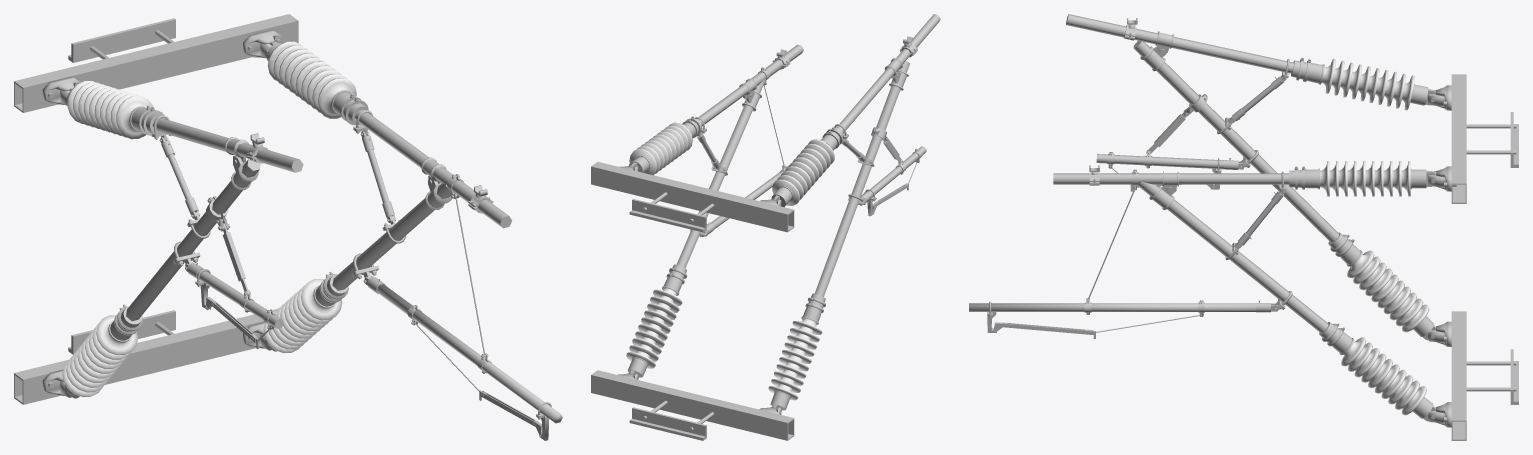
File: single_short_transition_2.obj
3 views of the same model, side by side, from view 1: azimuth 30°, elevation 25°; view 2: azimuth 150°, elevation 25°; view 3: azimuth 270°, elevation 25° (orthographic). The views are drawn at different scales.
Visible parts, largest first — view 1: 立方体.801, 立方体.806, 贝塞尔曲线.230, 贝塞尔曲线.226, 贝塞尔曲线.228, 立方体.803, 贝塞尔曲线.227, 贝塞尔曲线.229, 贝塞尔曲线.231, 立方体.804, 柱体.1858, 柱体.1802 (+5 smaller); view 2: 立方体.801, 立方体.806, 贝塞尔曲线.230, 贝塞尔曲线.227, 立方体.803, 立方体.804, 贝塞尔曲线.229, 贝塞尔曲线.228, 贝塞尔曲线.231, 贝塞尔曲线.226, 柱体.1865, 柱体.1795; view 3: 贝塞尔曲线.230, 贝塞尔曲线.227, 贝塞尔曲线.226, 贝塞尔曲线.229, 贝塞尔曲线.228, 立方体.801, 立方体.806, 贝塞尔曲线.231, 柱体.1829.
Boxes of the visible parts, x1,y1,x2,y2 form: 立方体.801: (14,14,298,112); 立方体.806: (14,308,277,404); 贝塞尔曲线.230: (126,159,260,321); 贝塞尔曲线.226: (376,284,562,423); 贝塞尔曲线.228: (355,109,512,228); 立方体.803: (68,18,175,62); 贝塞尔曲线.227: (332,183,452,290); 贝塞尔曲线.229: (152,118,303,172); 贝塞尔曲线.231: (196,270,283,328); 立方体.804: (68,310,175,354); 柱体.1858: (96,315,137,355); 柱体.1802: (301,278,342,320); 立方体.801: (591,161,794,232); 立方体.806: (591,370,794,440); 贝塞尔曲线.230: (814,61,910,296); 贝塞尔曲线.227: (676,79,765,267); 立方体.803: (629,199,706,232); 立方体.804: (629,407,706,440); 贝塞尔曲线.229: (836,14,940,133); 贝塞尔曲线.228: (697,44,803,126); 贝塞尔曲线.231: (867,146,926,197); 贝塞尔曲线.226: (710,165,789,229); 柱体.1865: (801,293,825,324); 柱体.1795: (662,264,686,295); 贝塞尔曲线.230: (1133,40,1338,242); 贝塞尔曲线.227: (1137,181,1328,333); 贝塞尔曲线.226: (969,303,1255,311); 贝塞尔曲线.229: (1066,14,1293,73); 贝塞尔曲线.228: (1053,173,1289,184); 立方体.801: (1451,74,1466,203); 立方体.806: (1451,311,1466,440); 贝塞尔曲线.231: (1096,154,1223,169); 柱体.1829: (1289,168,1319,189).
Size of the model in its own units: 1.72 by 2.44 by 3.66.
